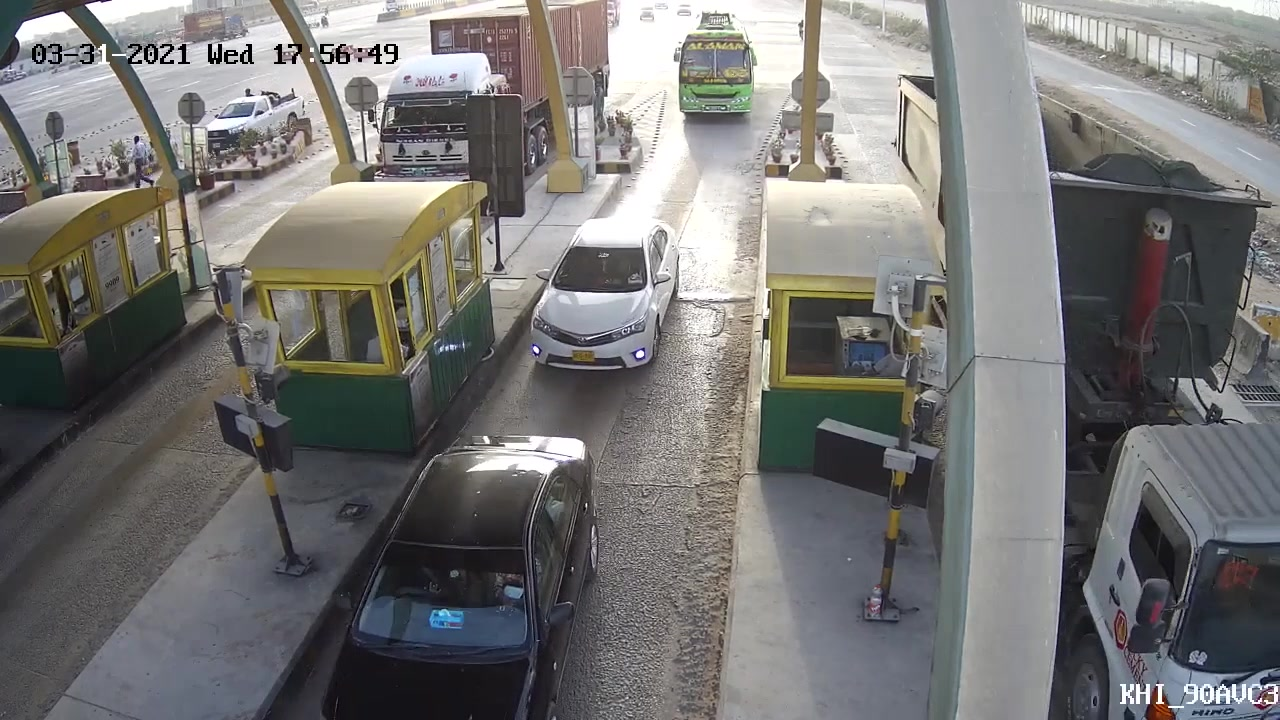F1: (523, 213, 689, 377)
